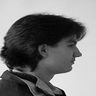ear: (33, 38, 54, 61)
